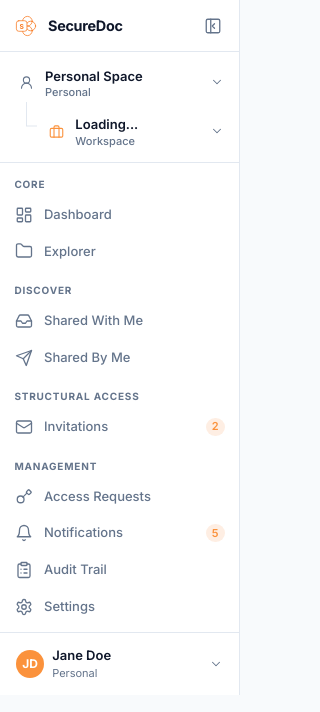
SidebarComponent › Level 2: Project Workspace Selector › Personal Context Workspaces › should display "Loading..." and loading state in popover when workspaces are loading
Note: Open popover
Click the button with class "subspace-node" at (135, 131), box left=37, top=109, right=233, bottom=154
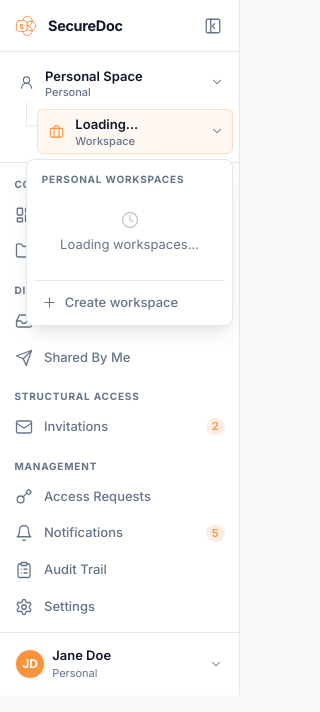
Result: the text "Loading workspaces..." is shown at left=60, top=235, right=199, bottom=254
